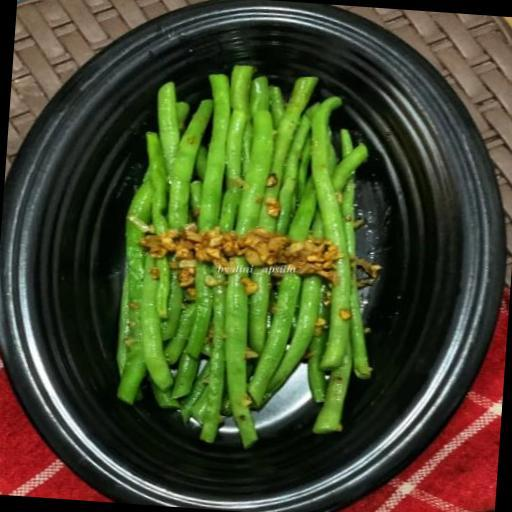buncis_rebus: (89, 45, 412, 472)
